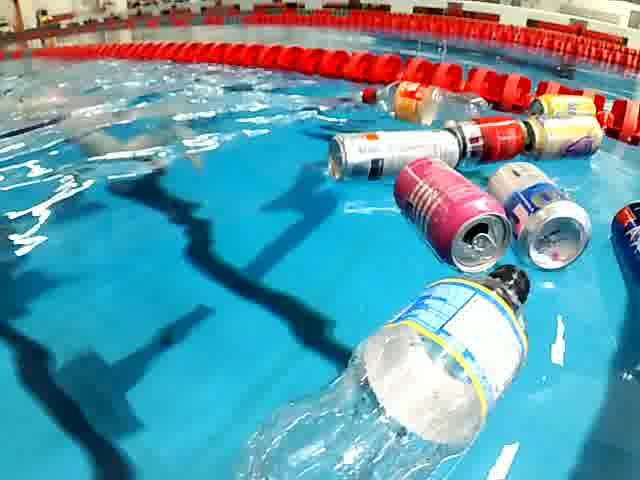Bottle: (226, 258, 546, 480), (361, 78, 488, 137)
Can: (392, 154, 517, 280), (485, 155, 598, 280), (322, 123, 463, 186), (448, 115, 534, 165), (517, 115, 612, 158), (606, 198, 640, 292), (523, 92, 604, 123)
